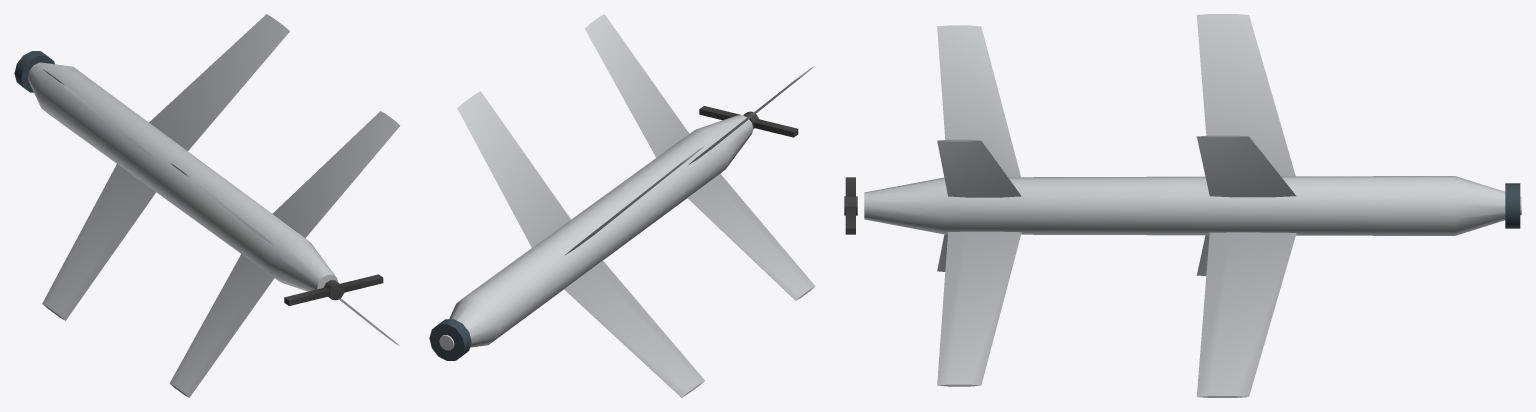
File: rus_lm_lancet3.glb
3 renders of one model, left to right at view 1: azimuth 30°, elevation 25°; view 2: azimuth 150°, elevation 25°; view 3: azimuth 270°, elevation 25°, orthographic. The views are drawn at different scales.
Visible parts, largest first — view 1: body, propy_0; view 2: body, propy_0; view 3: body, propy_0.
Boxes of the visible parts, <box> form: body: <box>14,14,400,397</box>; propy_0: <box>284,274,383,305</box>; body: <box>429,14,815,397</box>; propy_0: <box>699,106,798,137</box>; body: <box>864,14,1521,397</box>; propy_0: <box>844,177,857,234</box>.
Bounding box in the file's own units: 0.7071 × 0.7123 × 1.67.
